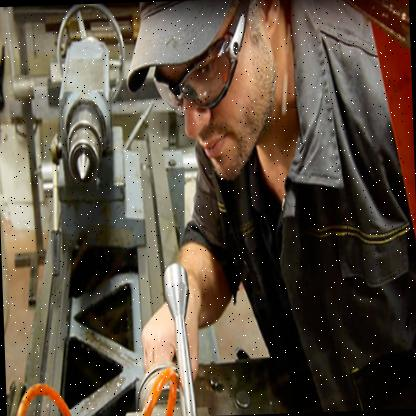oculos: (152, 18, 247, 118)
